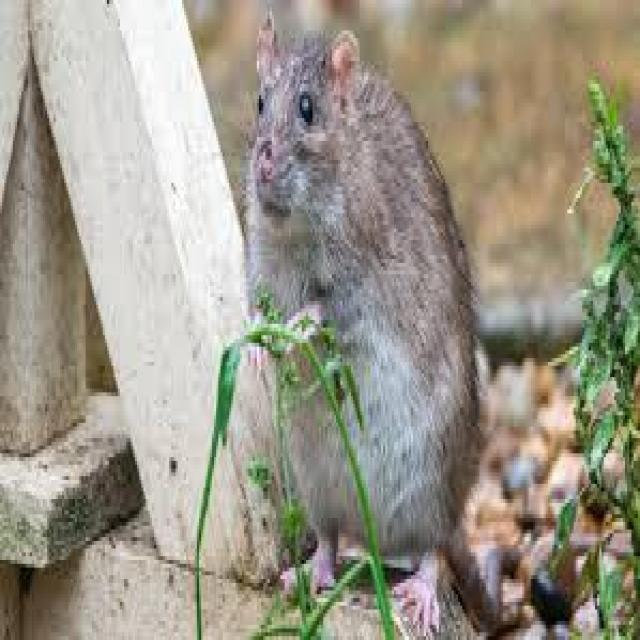Rat: (206, 18, 522, 640)
